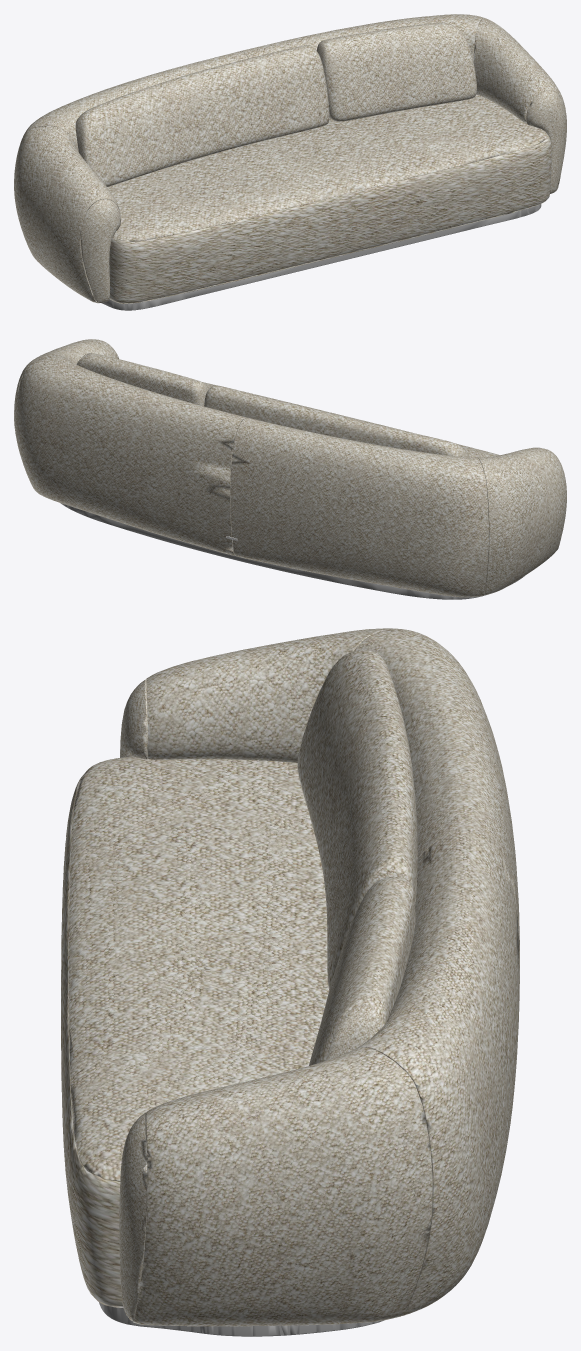
File: Coral Sofa.glb
3 views of the same model, one above another, from view 1: azimuth 30°, elevation 25°; view 2: azimuth 150°, elevation 25°; view 3: azimuth 270°, elevation 25° (orthographic). The views are drawn at different scales.
Visible parts, largest first — view 1: IMBOTT_002, Object005; view 2: IMBOTT_002, Object005; view 3: IMBOTT_002, Object005.
Boxes of the visible parts, left/top/right/bottom form: IMBOTT_002: left=14, top=14, right=566, bottom=303; Object005: left=101, top=204, right=541, bottom=310; IMBOTT_002: left=14, top=339, right=566, bottom=597; Object005: left=60, top=503, right=524, bottom=599; IMBOTT_002: left=61, top=628, right=519, bottom=1326; Object005: left=99, top=1302, right=384, bottom=1336.
Bounding box in the file's own units: 2.76 × 0.7914 × 1.08.
3 materials, 3 textured.
